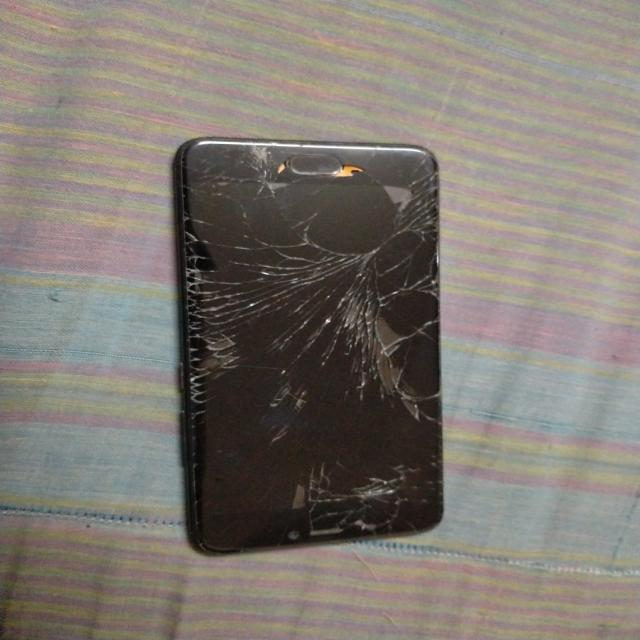screen crack: (175, 135, 448, 543)
